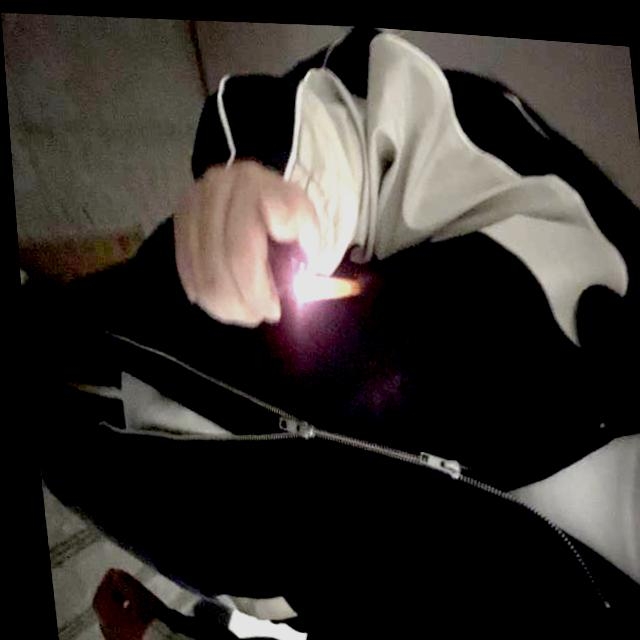helmet: (290, 270, 356, 295)
